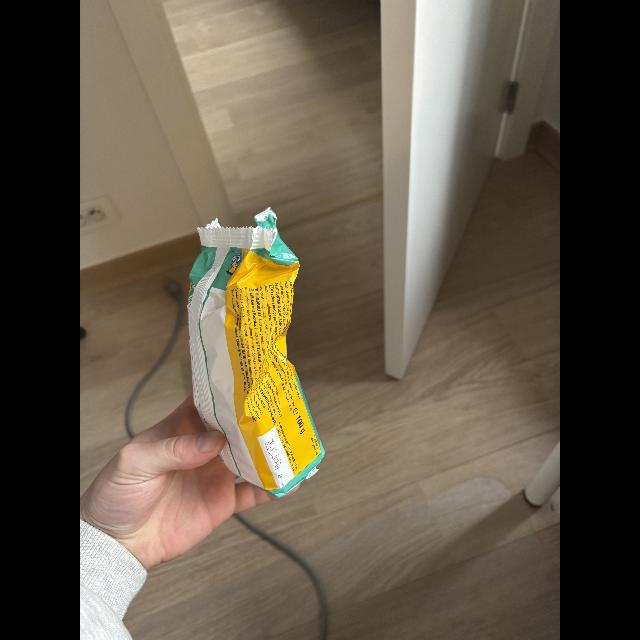Plastic: (186, 205, 326, 498)
